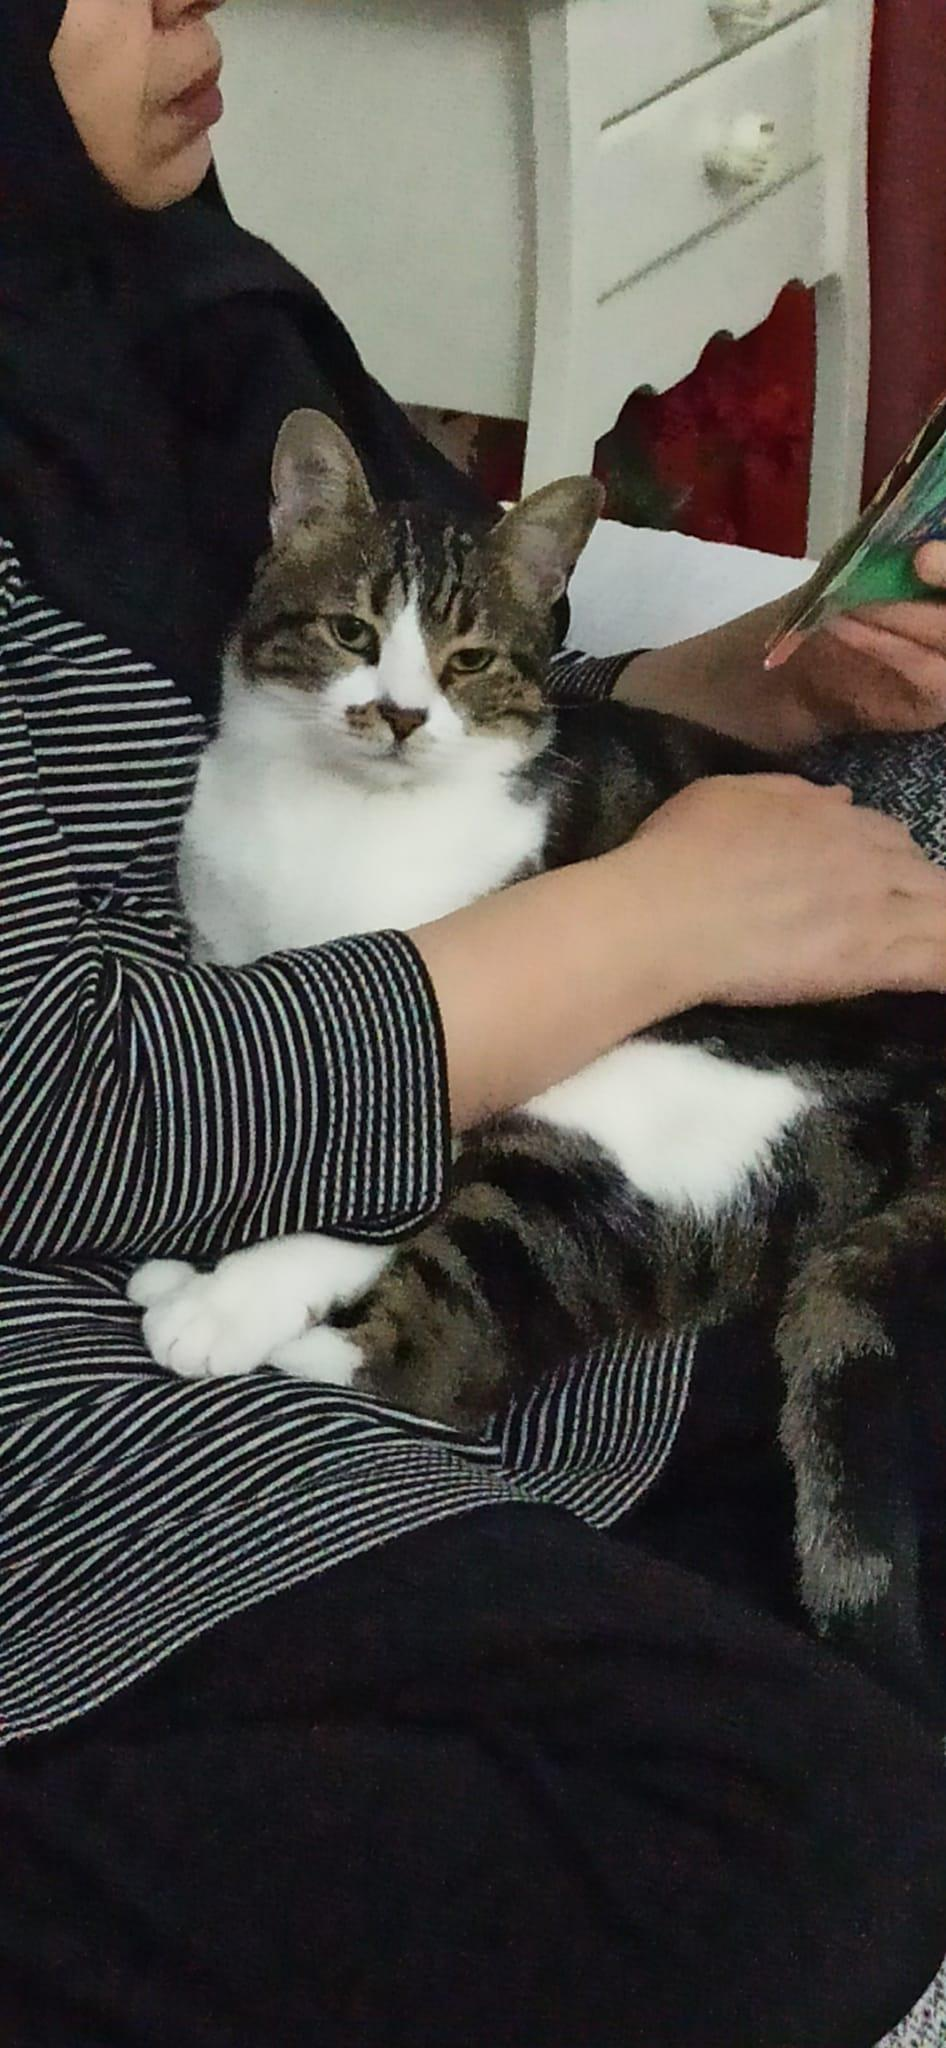kedo: (187, 408, 601, 896)
